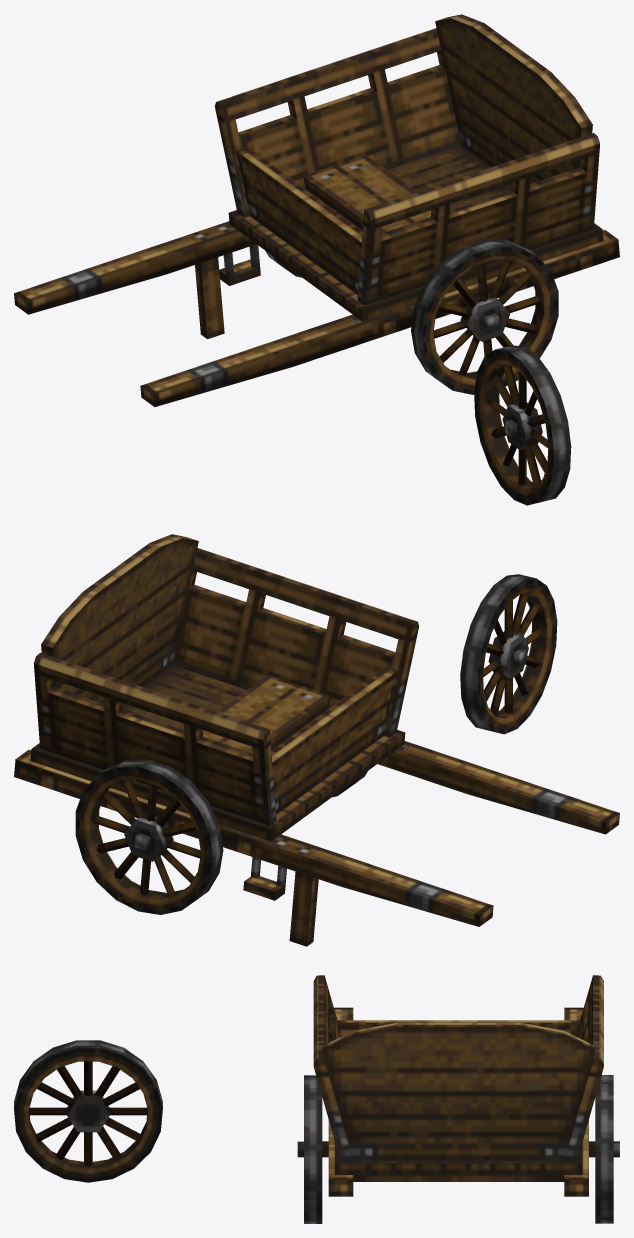
Rendered from EnvObjMD_Wagon_A.FBX.
3 renders of one model, top to bottom at view 1: azimuth 30°, elevation 25°; view 2: azimuth 150°, elevation 25°; view 3: azimuth 270°, elevation 25°, orthographic. The views are drawn at different scales.
Visible parts, largest first — view 1: EnvObjMD_Wagon_A, EnvObjMD_Wagon_A_Wheel; view 2: EnvObjMD_Wagon_A, EnvObjMD_Wagon_A_Wheel; view 3: EnvObjMD_Wagon_A, EnvObjMD_Wagon_A_Wheel.
Boxes of the visible parts, x1,y1,x2,y2 form: EnvObjMD_Wagon_A: (14, 14, 619, 406); EnvObjMD_Wagon_A_Wheel: (474, 345, 571, 505); EnvObjMD_Wagon_A: (14, 534, 619, 946); EnvObjMD_Wagon_A_Wheel: (460, 574, 557, 734); EnvObjMD_Wagon_A: (297, 975, 619, 1223); EnvObjMD_Wagon_A_Wheel: (14, 1040, 162, 1182).
Size of the model in its own units: 405 by 225 by 489.
